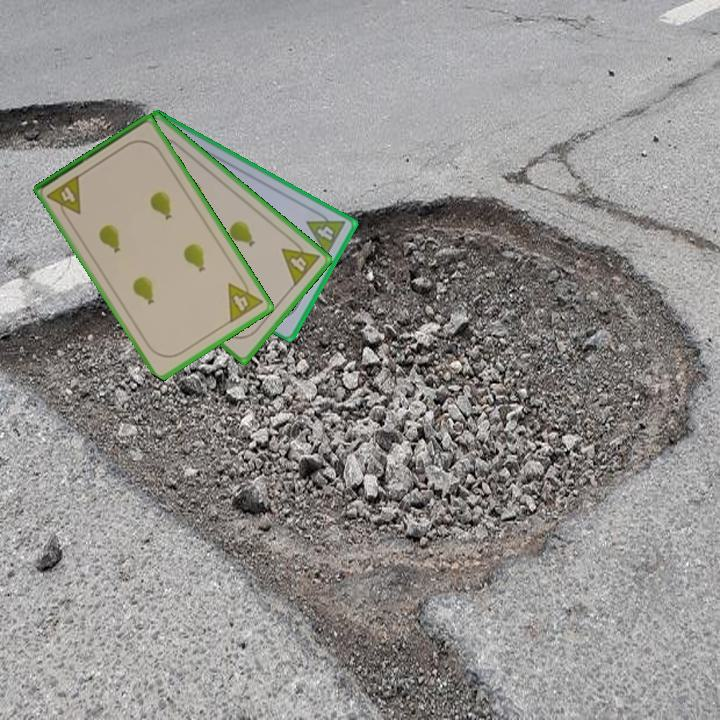4p: (278, 234, 323, 289), (303, 206, 348, 259), (224, 273, 266, 326), (43, 171, 84, 223)
